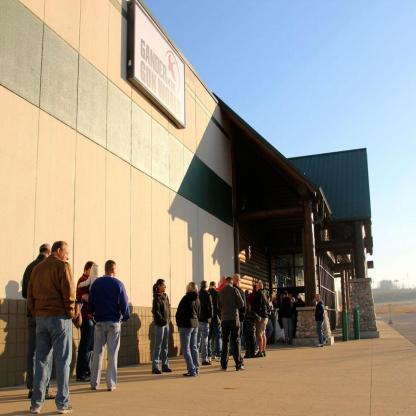face: (61, 244, 70, 265), (161, 280, 167, 292), (238, 277, 242, 284), (316, 296, 319, 302), (289, 295, 292, 299), (284, 294, 286, 298), (293, 300, 295, 304), (272, 297, 274, 301), (271, 306, 273, 310)
